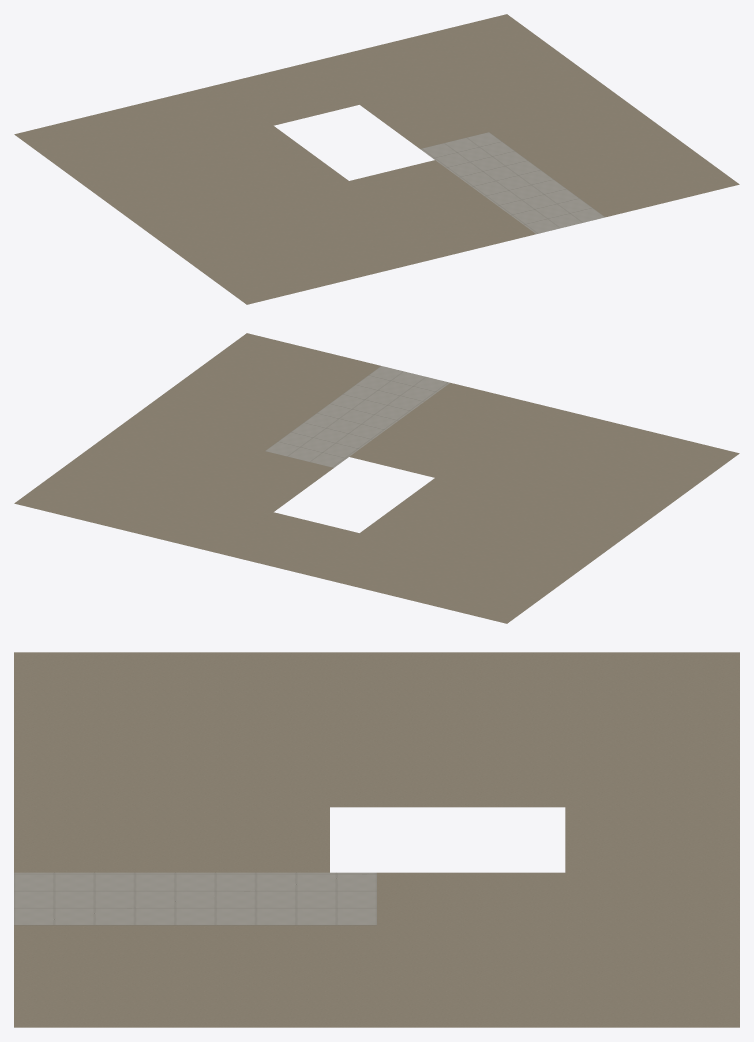
Rendered from floor-finishes-second-v002.glb.
The picture shows the model from 3 angles, top to bottom: view 1: azimuth 30°, elevation 25°; view 2: azimuth 150°, elevation 25°; view 3: azimuth 270°, elevation 25°; orthographic projection. The views are drawn at different scales.
Parts seen in each view (by area): view 1: second floor finishes; view 2: second floor finishes; view 3: second floor finishes.
Boxes of the visible parts, bbox=[...] form: second floor finishes: bbox=[14, 14, 739, 304]; second floor finishes: bbox=[14, 333, 739, 623]; second floor finishes: bbox=[14, 652, 739, 1027].
Bounding box in the file's own units: 13.2 × 0 × 10.8.
2 materials, 2 textured.
